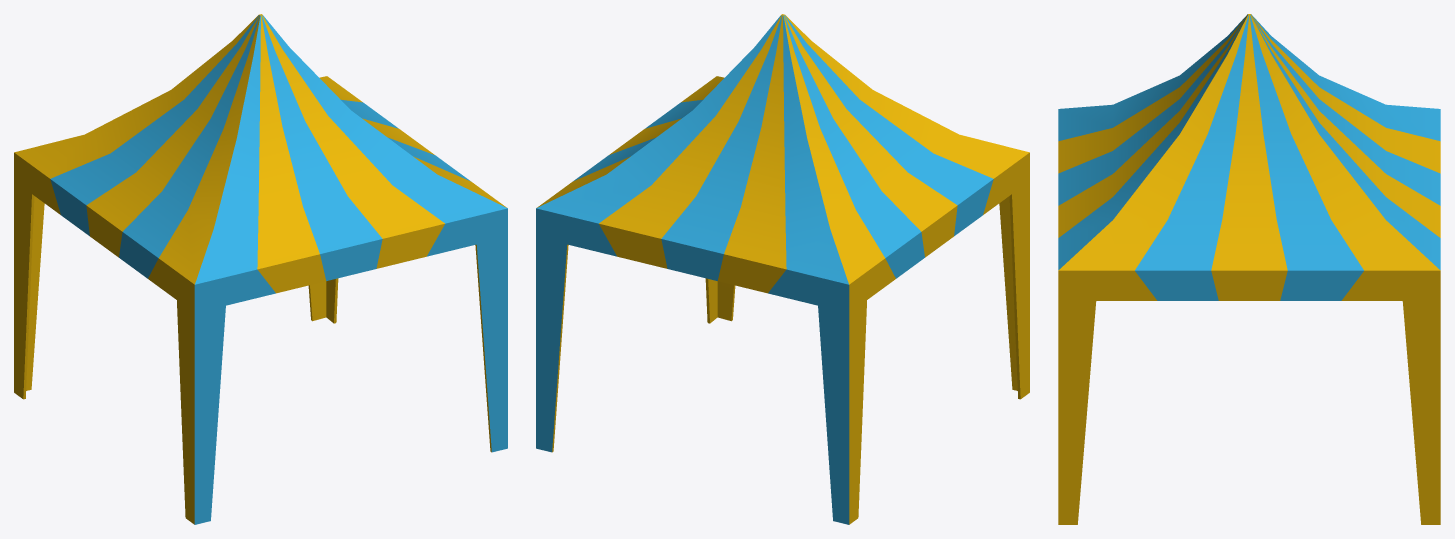
The model's file is Tent.fbx.
The picture shows the model from 3 angles, left to right: view 1: azimuth 30°, elevation 25°; view 2: azimuth 150°, elevation 25°; view 3: azimuth 270°, elevation 25°; orthographic projection. The views are drawn at different scales.
Visible parts, largest first — view 1: Tenda booth putih; view 2: Tenda booth putih; view 3: Tenda booth putih.
Boxes of the visible parts, bbox=[...] form: Tenda booth putih: bbox=[14, 14, 507, 524]; Tenda booth putih: bbox=[536, 14, 1029, 524]; Tenda booth putih: bbox=[1058, 14, 1440, 524].
Size of the model in its own units: 566 by 701 by 566.
